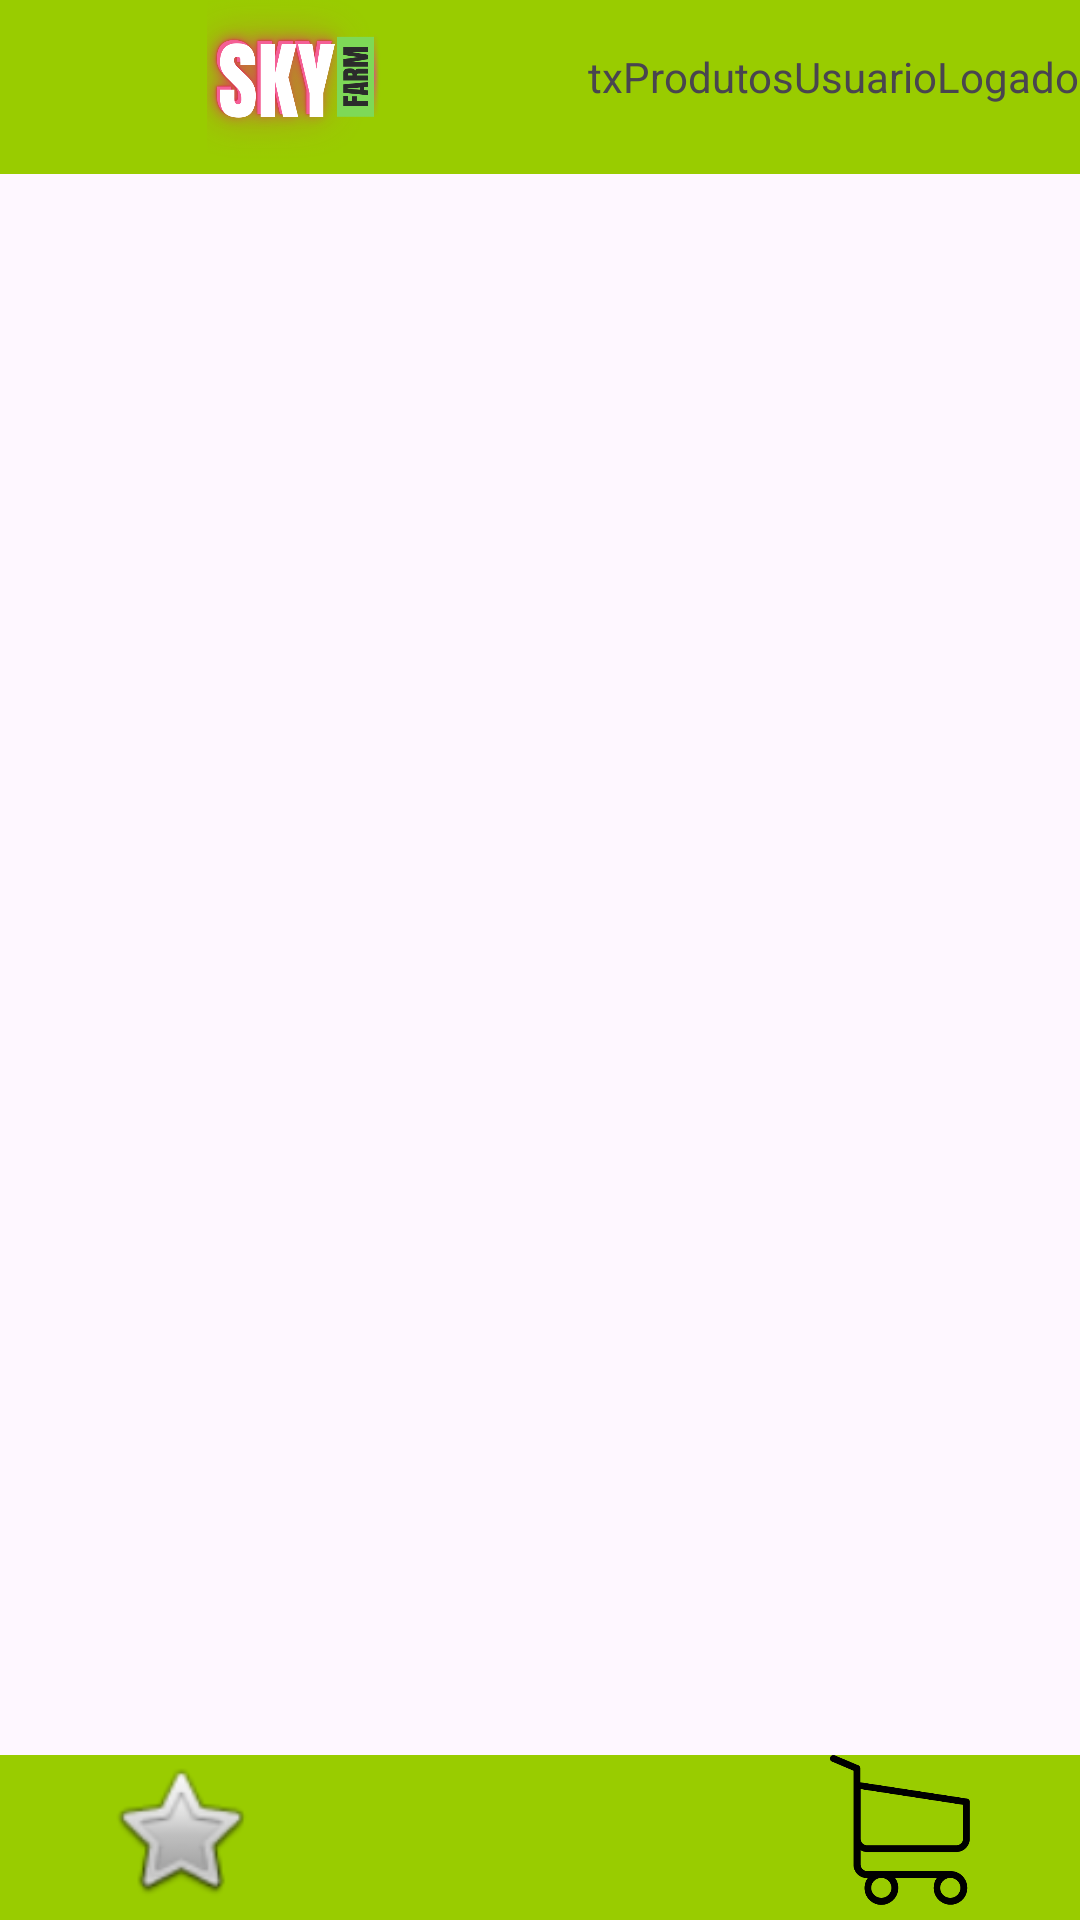

Icon bounding boxes for this 1080 × 1920 phone screenshot, format (x1, y1, x2, y2):
star off: (119, 1771, 244, 1892)
